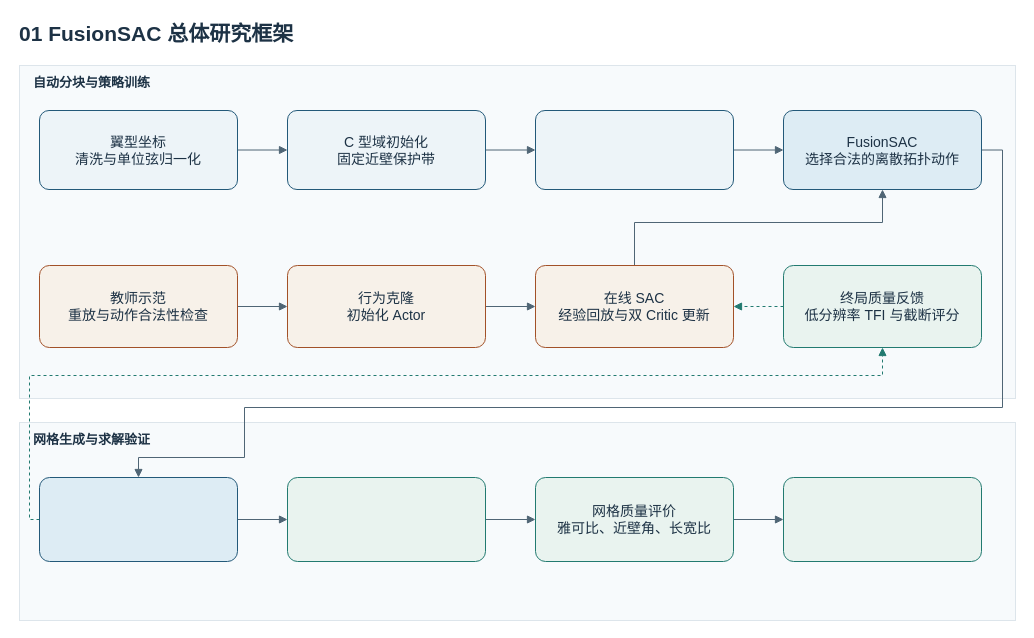
This 1034x638 diagram has some shape labels left out. Here are the shapes that lost their labels. From the top down, the centre of each, then its label:
[634,150]: 拓扑状态与候选 半边图、18 维几何与掩码
[138,519]: 合法四边化终态 显式 STOP 确认
[386,519]: TFI 网格 共形接口与两档预算
[882,519]: SU2 求解 残差与力系数联合检查
